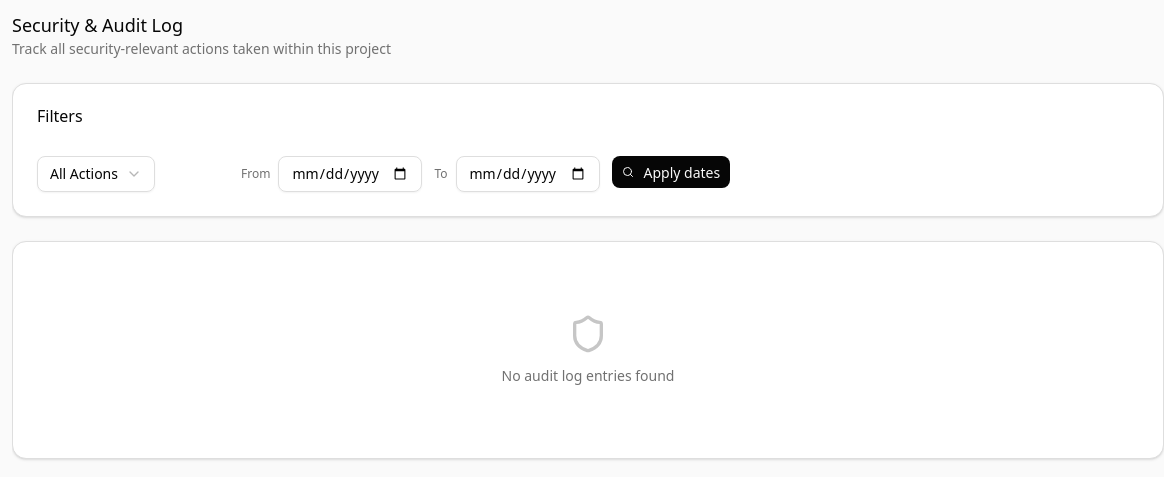
it: ProjectSecurityTab › Filters › clears all filters when Clear is clicked
The width and height of the screenshot is (1164, 477).
Apply a filter first
Type "2026-03-01" into the date field labelled "From" at (350, 174), box [278,156,422,192]
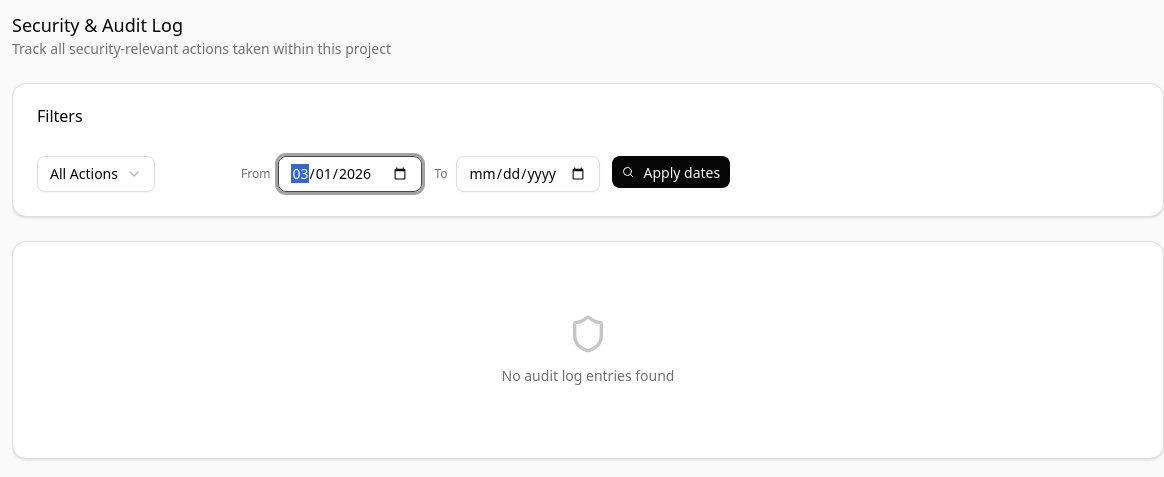
Click the button "Apply dates" at (671, 172), box [612,156,730,188]
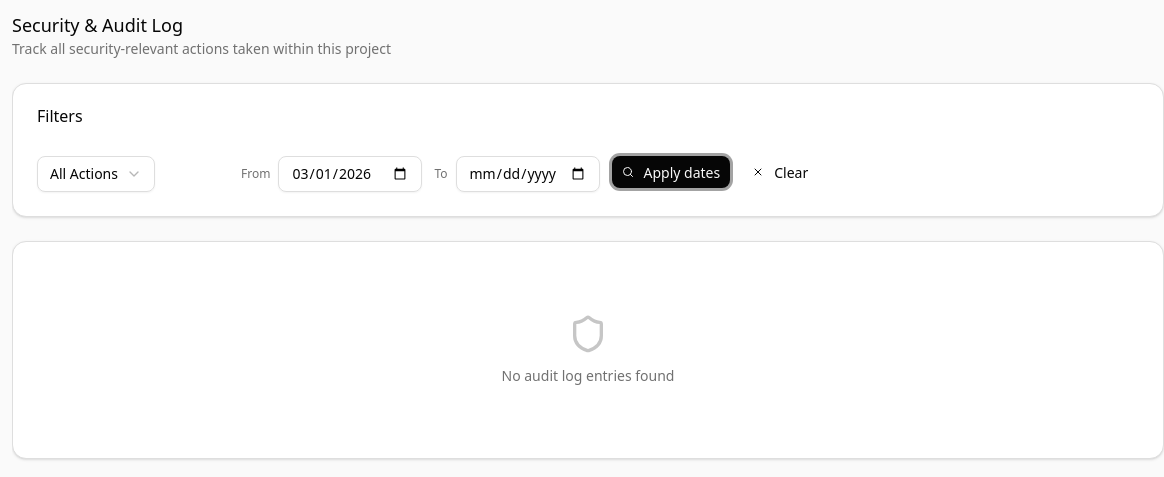
expect the button "Clear" is shown: met
Click the button "Clear" at (780, 172), box [742,156,818,188]
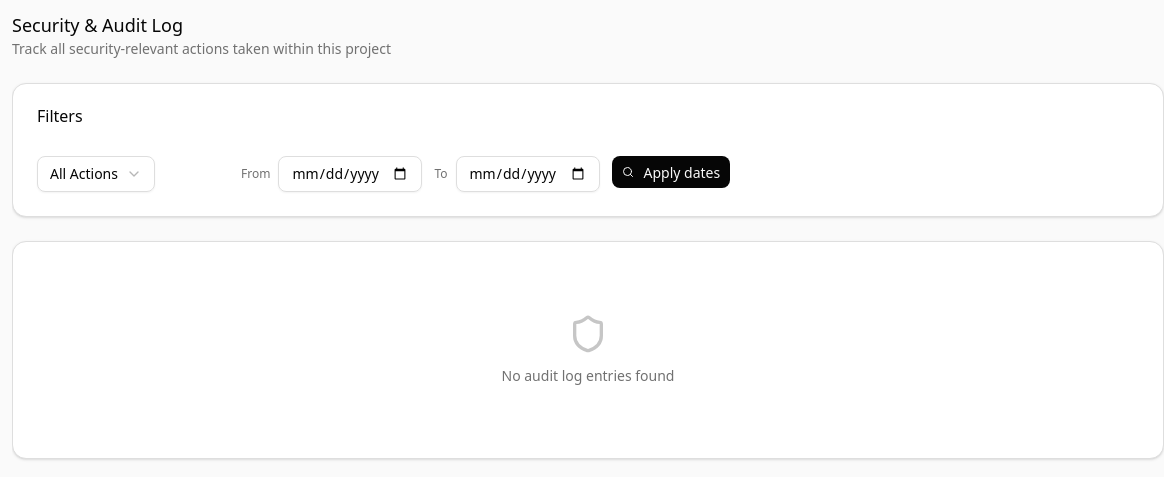
expect the button "Clear" is gone: met
